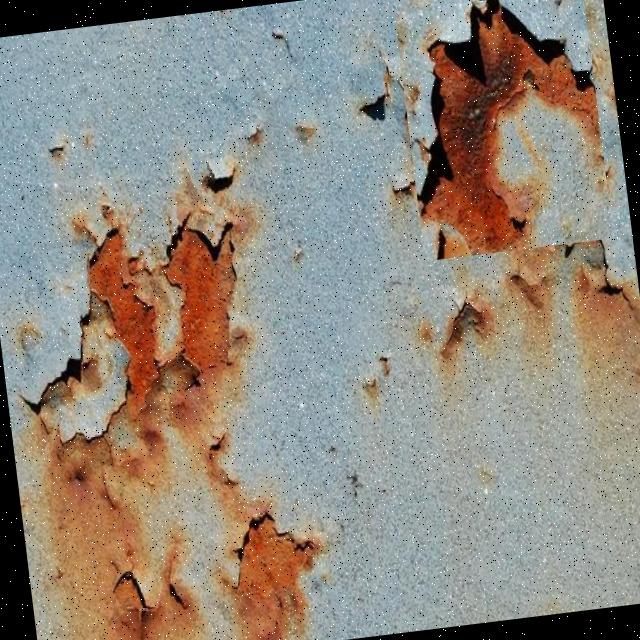Corrosion: (0, 0, 640, 640), (0, 140, 333, 640), (391, 0, 614, 261)
